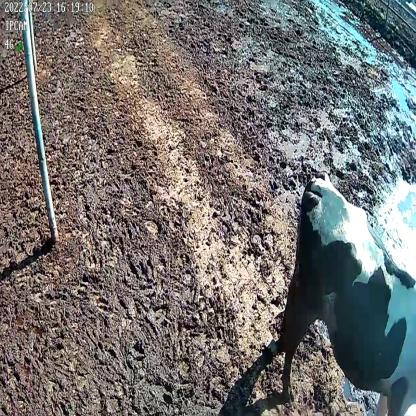cow: (278, 168, 416, 416)
